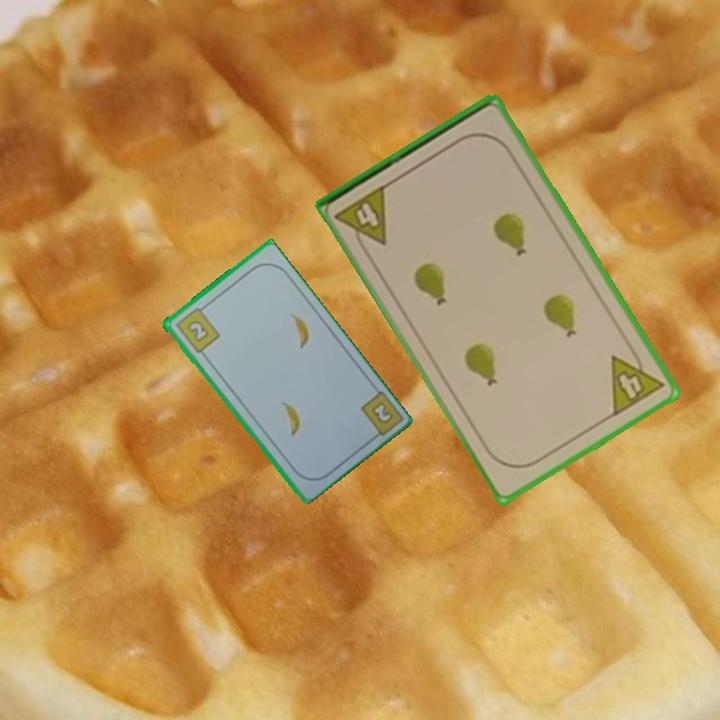2b: (356, 387, 404, 444), (172, 302, 222, 356)
4p: (607, 341, 668, 420), (331, 181, 391, 257)
